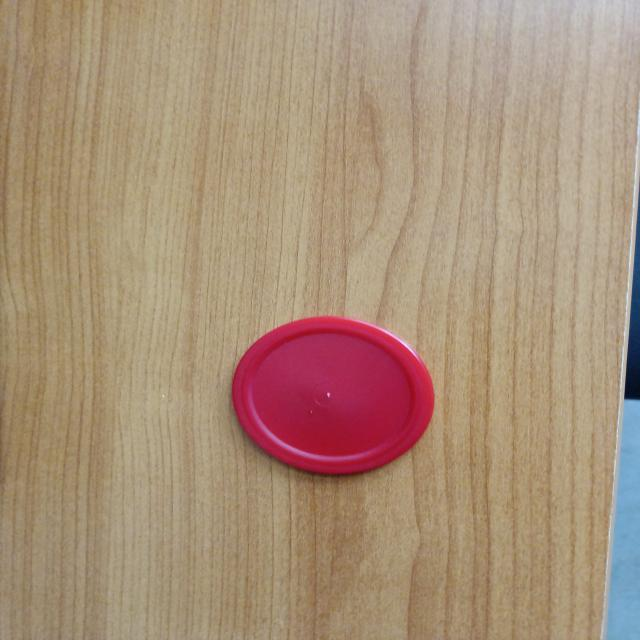chip: (226, 314, 436, 476)
